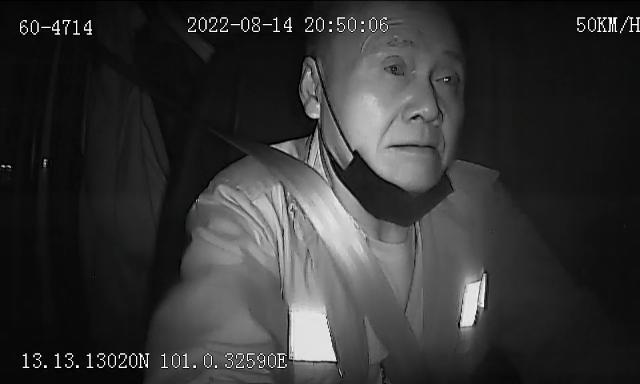SafeDriving: (378, 49, 413, 84), (427, 61, 464, 94)
Seatbelt: (219, 125, 427, 384)
